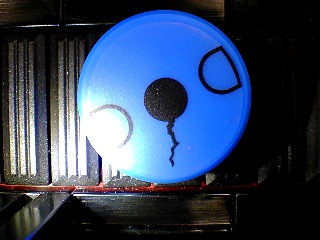CRACK: (78, 10, 251, 184)
